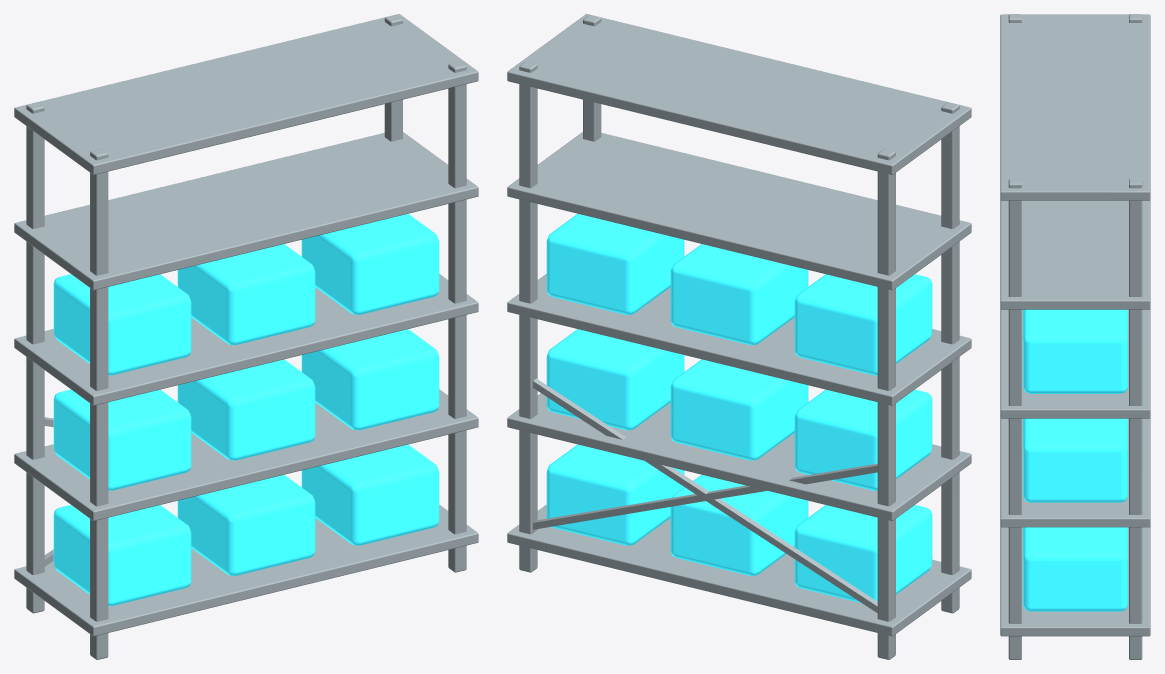
File: data-centre-infiltration-kit-data-centre-infiltration--fc98fcba__29254.glb
3 views of the same model, side by side, from view 1: azimuth 30°, elevation 25°; view 2: azimuth 150°, elevation 25°; view 3: azimuth 270°, elevation 25° (orthographic). The views are drawn at different scales.
Parts seen in each view (by area): view 1: data-centre-infiltration-kit-parts-shelf; view 2: data-centre-infiltration-kit-parts-shelf; view 3: data-centre-infiltration-kit-parts-shelf.
Part boxes in pixels (x1,y1,x2,y2): data-centre-infiltration-kit-parts-shelf: (14,14,478,659); data-centre-infiltration-kit-parts-shelf: (507,14,971,659); data-centre-infiltration-kit-parts-shelf: (1000,14,1150,659).
Bounding box in the file's own units: 1.4 × 1.75 × 0.4999.
